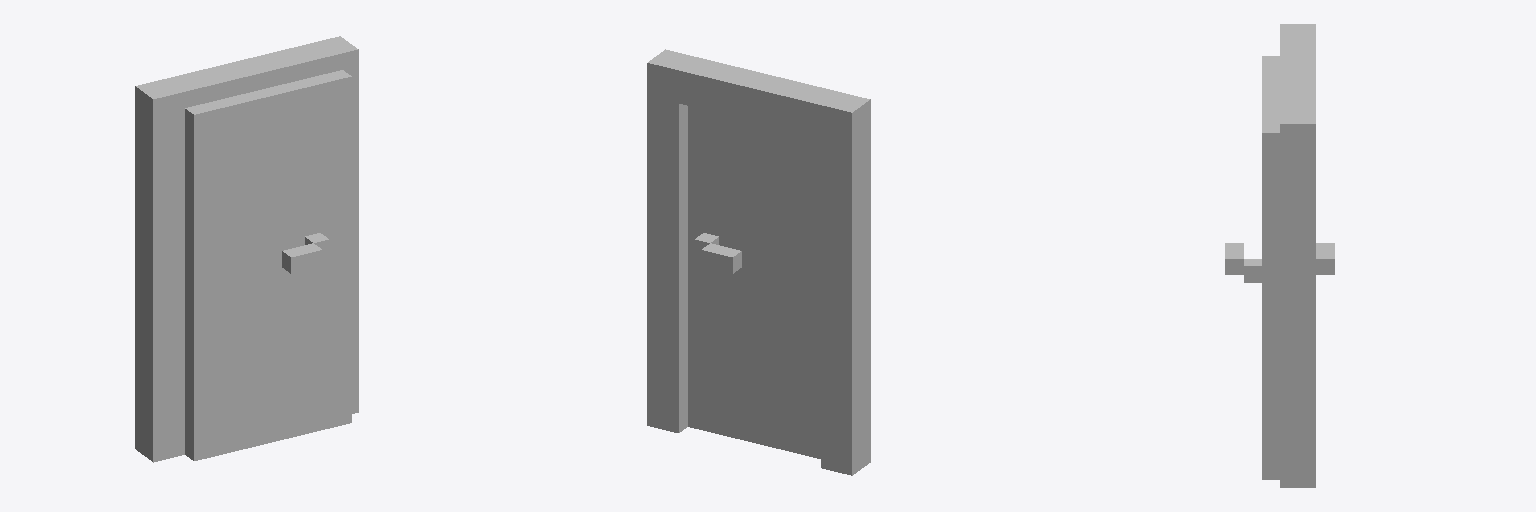
File: Cerrada.obj
The picture shows the model from 3 angles: view 1: azimuth 30°, elevation 25°; view 2: azimuth 150°, elevation 25°; view 3: azimuth 270°, elevation 25°; orthographic projection.
Visible parts, largest first — view 1: object 1; view 2: object 1; view 3: object 1.
Part boxes in pixels (x1,y1,x2,y2): object 1: (135, 36, 358, 462); object 1: (647, 49, 870, 475); object 1: (1225, 24, 1334, 487).
Bounding box in the file's own units: 1.3 × 2.2 × 0.6.